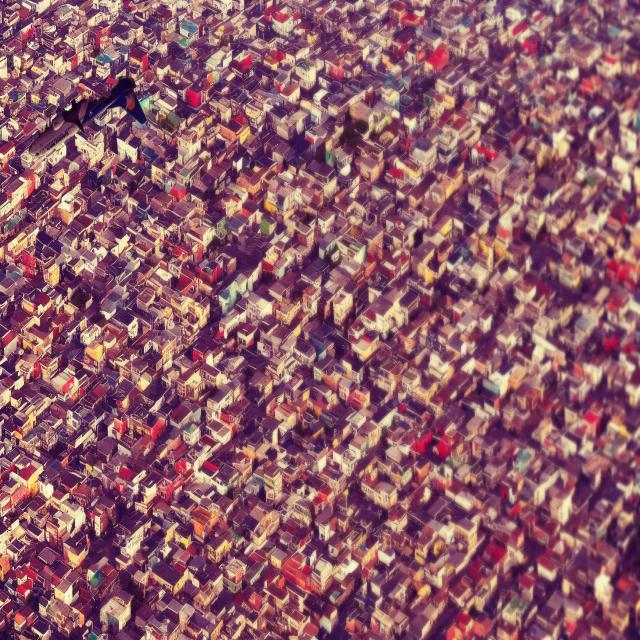airplane: (29, 76, 146, 156)
